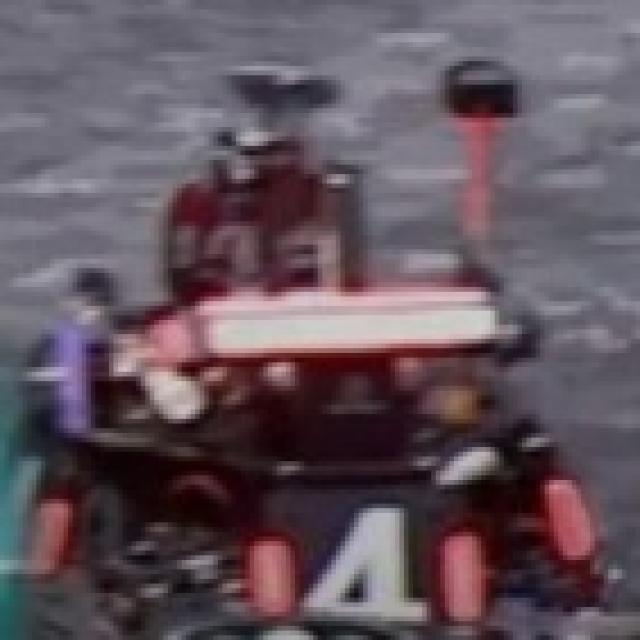R4: (245, 480, 490, 635)
